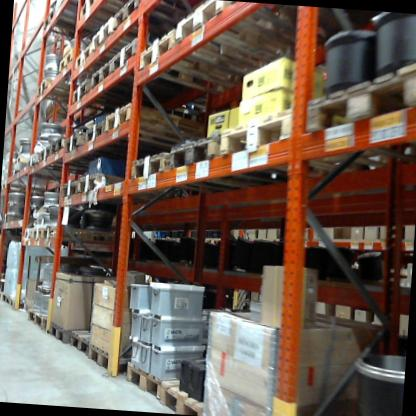pallet: (127, 149, 313, 226), (213, 100, 376, 183), (171, 0, 335, 77), (304, 42, 416, 154), (166, 126, 359, 189), (105, 33, 236, 119), (137, 30, 269, 113), (91, 65, 218, 102), (104, 97, 193, 149), (42, 220, 138, 254), (113, 0, 200, 36), (117, 362, 185, 402), (82, 337, 140, 375), (75, 163, 129, 203), (157, 378, 212, 416), (39, 146, 107, 175), (40, 5, 99, 38), (70, 81, 129, 113), (78, 0, 142, 29), (35, 75, 85, 111), (88, 12, 120, 55), (64, 324, 99, 358), (85, 112, 116, 147), (44, 316, 79, 347), (50, 43, 79, 80), (67, 41, 103, 70), (67, 129, 97, 161), (53, 176, 82, 202), (22, 308, 51, 333), (25, 151, 55, 172), (50, 133, 70, 164), (29, 221, 45, 245), (6, 296, 30, 312), (7, 153, 24, 168), (20, 227, 34, 245), (4, 291, 12, 305), (2, 179, 9, 192), (0, 287, 5, 304)
